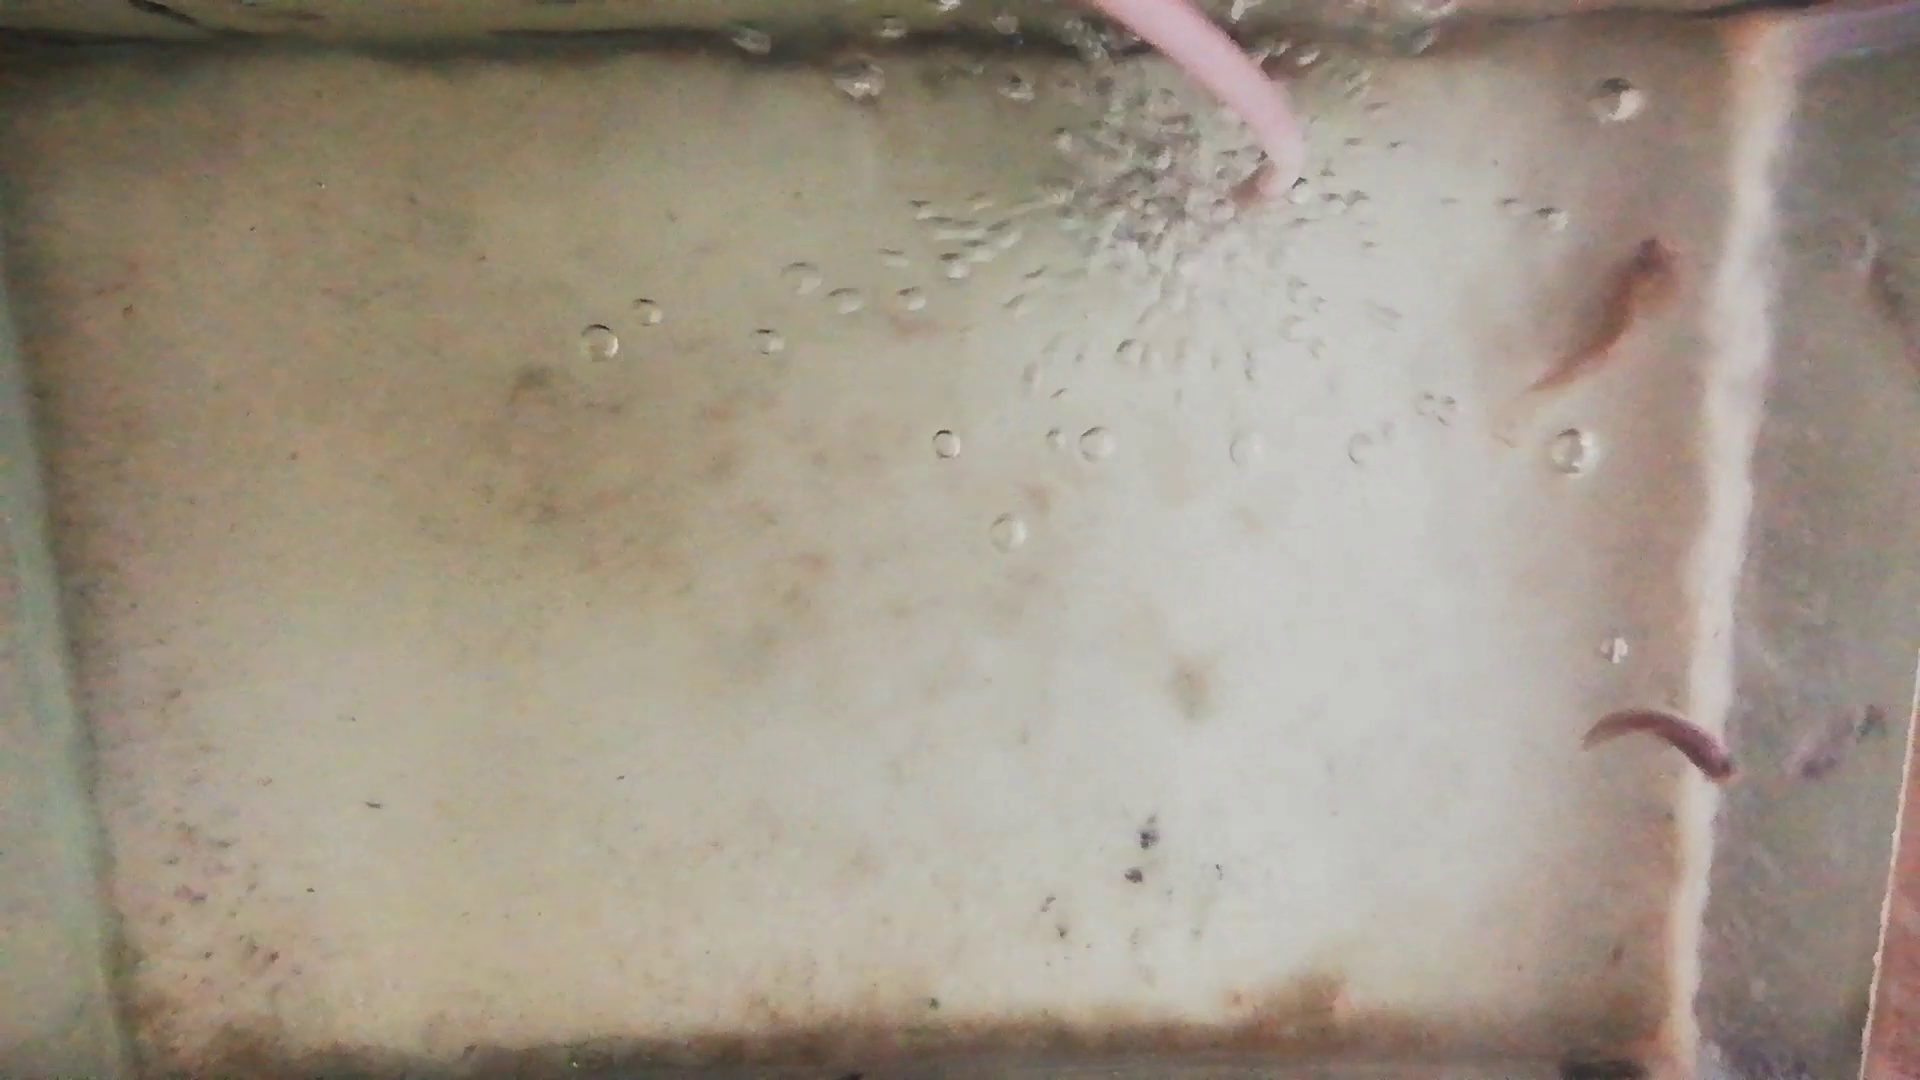fish: (1539, 232, 1677, 393), (1585, 709, 1745, 786)
